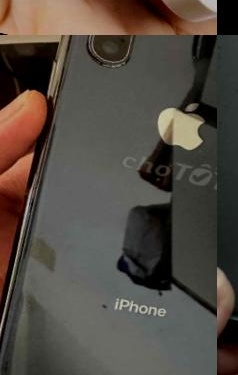scratch: (79, 290, 120, 328), (181, 41, 215, 73), (185, 142, 206, 162)
